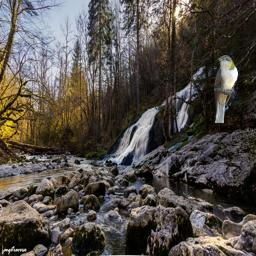Cuckoo: (213, 55, 238, 123)
